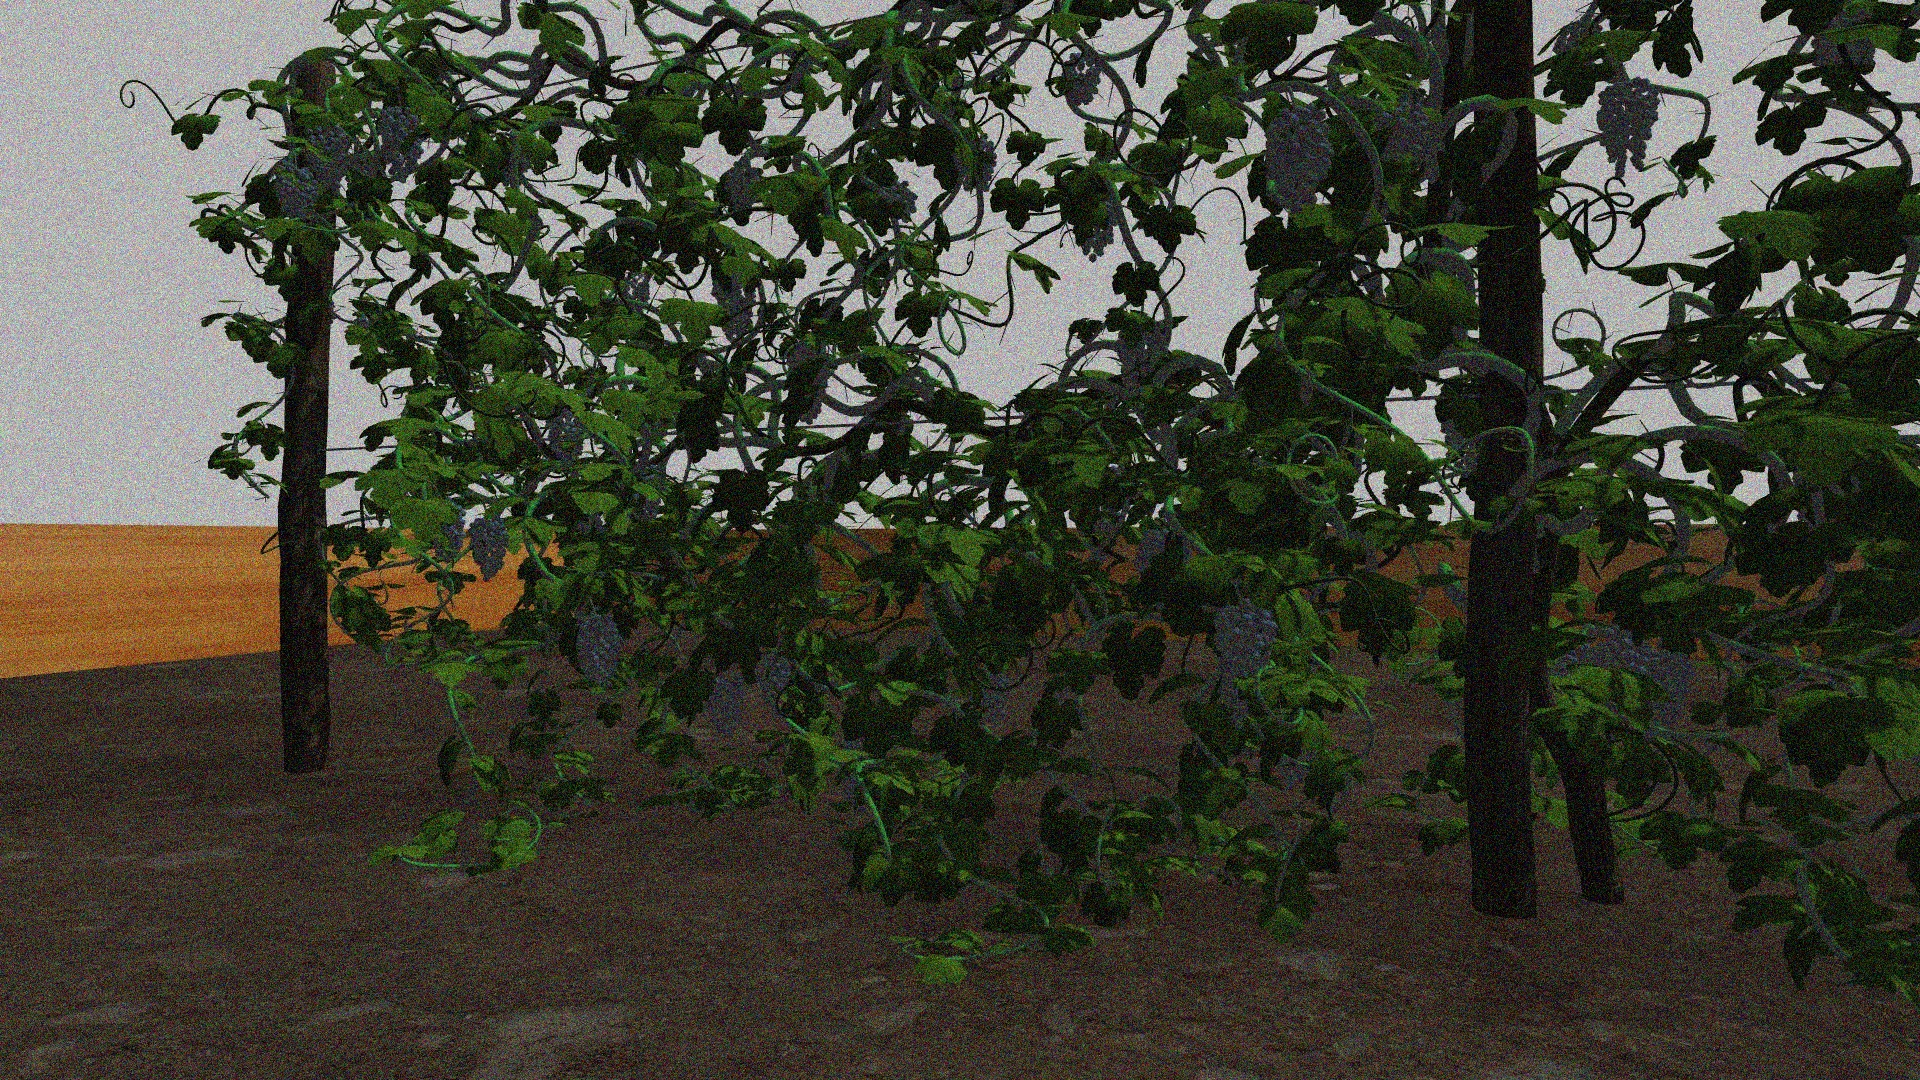grape: (1212, 597, 1279, 724), (1263, 102, 1335, 214), (1594, 76, 1660, 175), (1639, 651, 1695, 740), (1116, 316, 1170, 389), (1381, 99, 1437, 166), (377, 105, 425, 185), (305, 119, 353, 195), (574, 616, 625, 688), (1568, 626, 1639, 675), (712, 274, 758, 344), (702, 671, 746, 738), (469, 518, 510, 585), (274, 161, 319, 222), (1058, 53, 1098, 111), (545, 407, 584, 464), (753, 650, 791, 707), (971, 675, 1011, 727), (431, 504, 465, 563), (725, 160, 760, 214), (876, 179, 918, 222)
